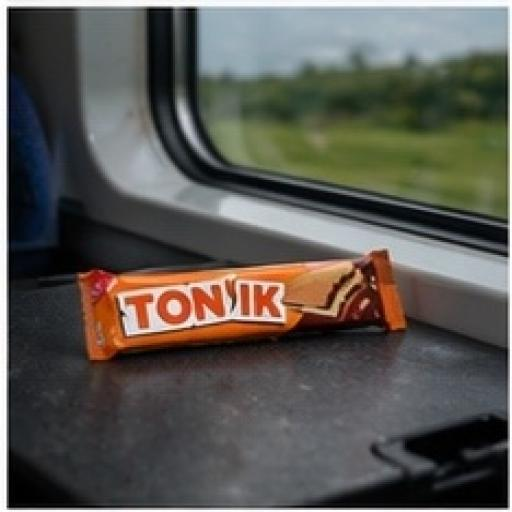tonik: (55, 176, 447, 442)
